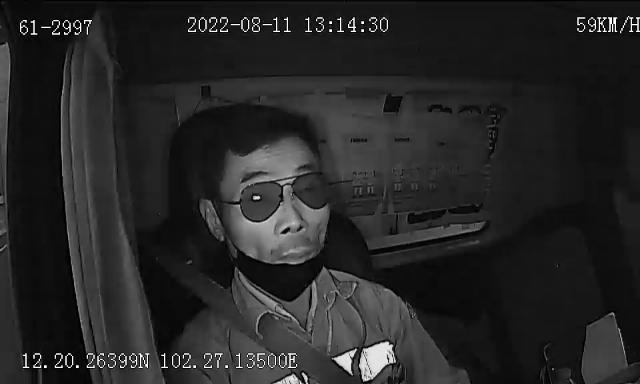SafeDriving: (418, 97, 472, 122), (242, 190, 272, 208)
Seatbelt: (188, 280, 354, 384)
